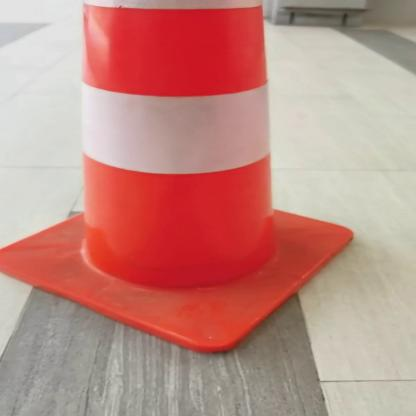cone: (3, 1, 379, 358)
